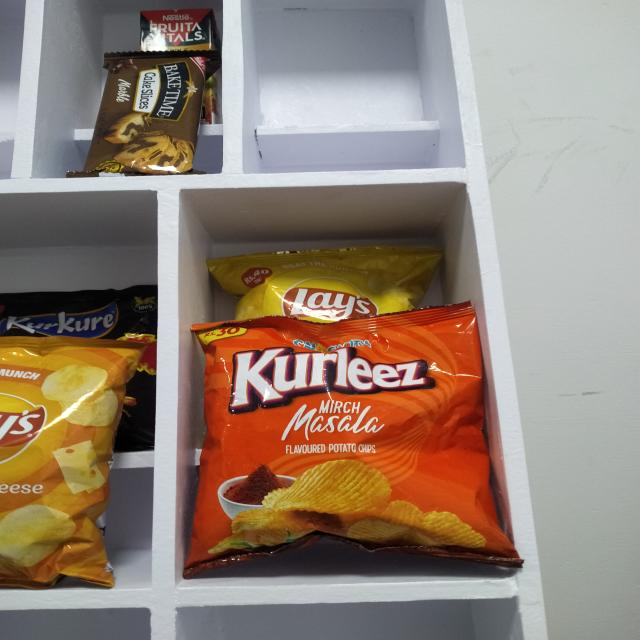Plastic: (186, 314, 492, 572), (0, 346, 138, 580), (205, 242, 446, 316), (105, 51, 191, 172), (7, 296, 148, 337), (138, 2, 216, 51)
